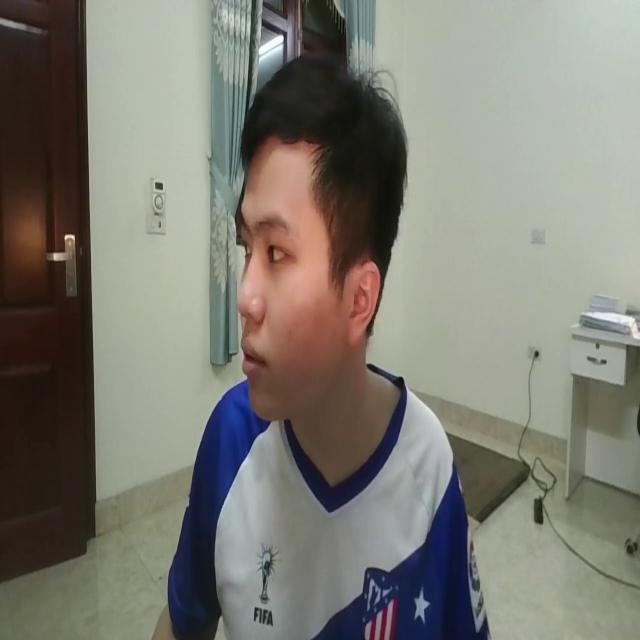student: (110, 54, 493, 640)
